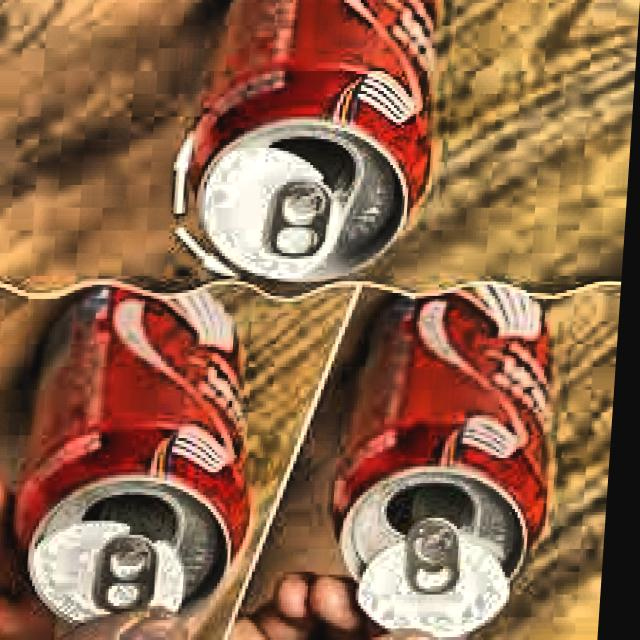can: (11, 270, 274, 635), (331, 283, 571, 630), (179, 0, 448, 287)
